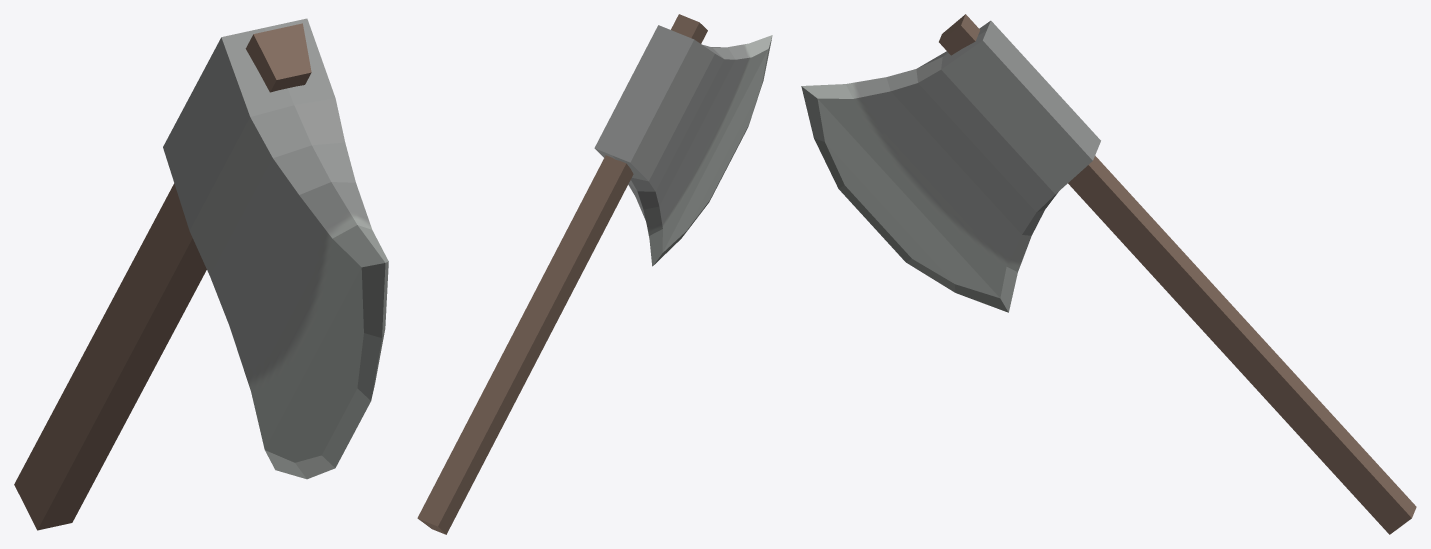
Rendered from Hacha.obj.
3 views of the same model, side by side, from view 1: azimuth 30°, elevation 25°; view 2: azimuth 150°, elevation 25°; view 3: azimuth 270°, elevation 25° (orthographic). The views are drawn at different scales.
Parts seen in each view (by area): view 1: axe:pCube3; view 2: axe:pCube3; view 3: axe:pCube3.
Part boxes in pixels (x1,y1,x2,y2): axe:pCube3: (14,18,388,530); axe:pCube3: (417,14,772,534); axe:pCube3: (801,14,1416,534).
Bounding box in the file's own units: 1.16 × 4.33 × 5.11.
Materials: 1 (1 with a texture image).
